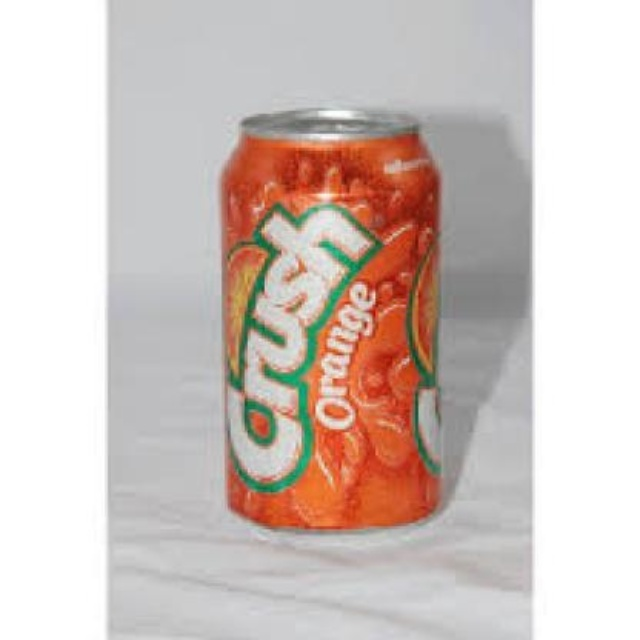trash: (222, 109, 440, 528)
